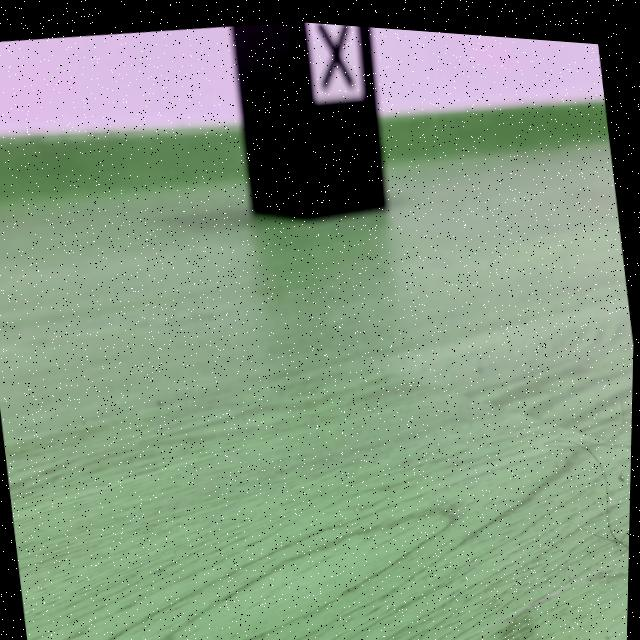X: (318, 19, 352, 83)
